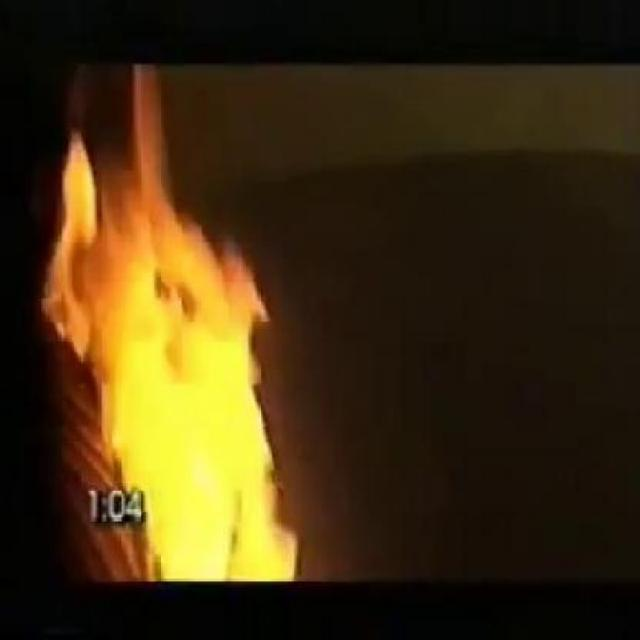fire: (44, 82, 278, 486), (152, 493, 306, 590)
